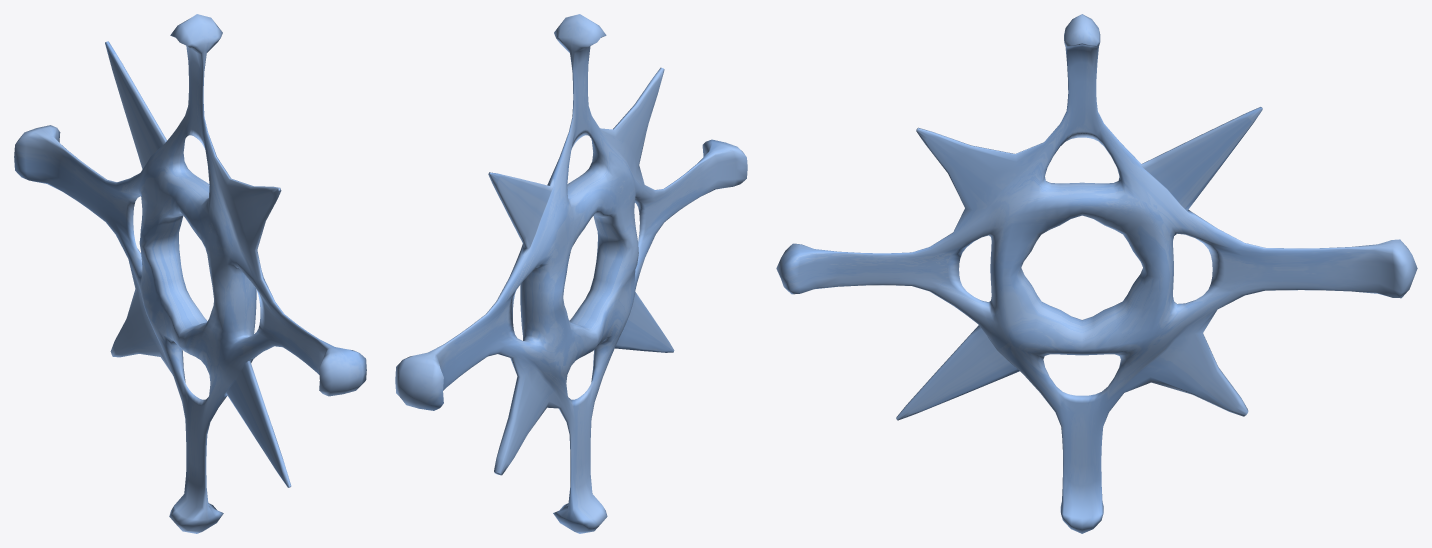
The model's file is Snowflake.fbx.
3 renders of one model, left to right at view 1: azimuth 30°, elevation 25°; view 2: azimuth 150°, elevation 25°; view 3: azimuth 270°, elevation 25°, orthographic.
Parts seen in each view (by area): view 1: pasted__pCube21; view 2: pasted__pCube21; view 3: pasted__pCube21.
Part boxes in pixels (x1,y1,x2,y2): pasted__pCube21: [14, 14, 366, 533]; pasted__pCube21: [395, 14, 747, 533]; pasted__pCube21: [776, 14, 1417, 533].
Size of the model in its own units: 0.6697 by 7.15 by 8.01.
